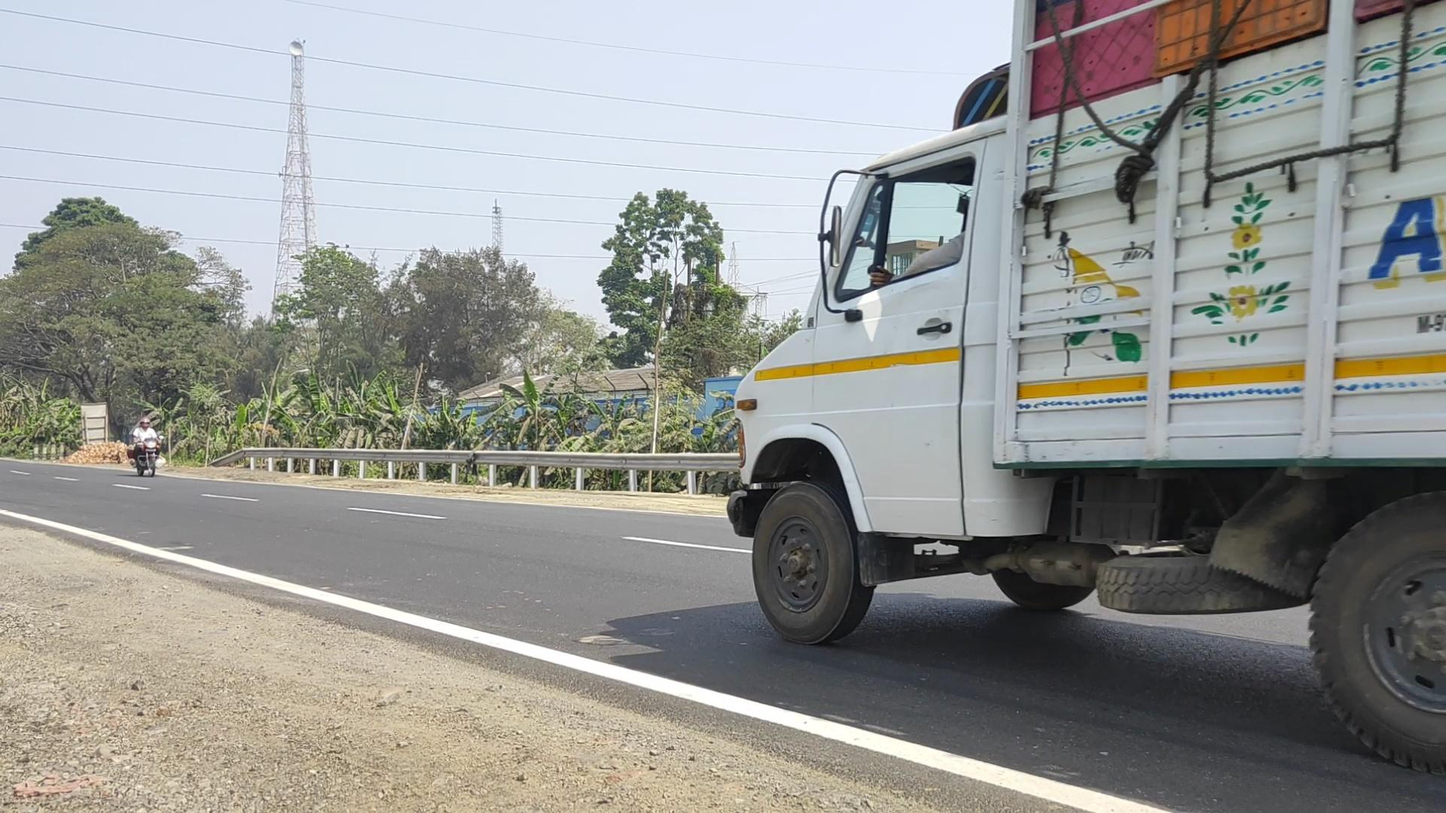bike: (127, 416, 163, 477)
truck: (720, 2, 1446, 775)
